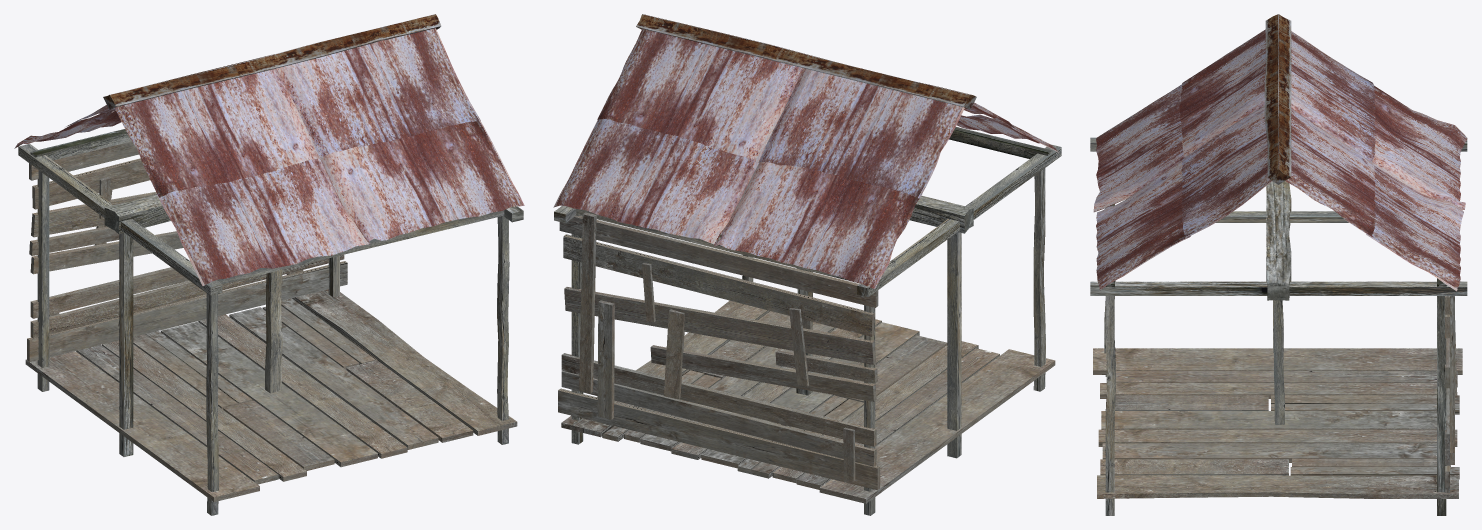
File: barn.glb
3 views of the same model, side by side, from view 1: azimuth 30°, elevation 25°; view 2: azimuth 150°, elevation 25°; view 3: azimuth 270°, elevation 25° (orthographic). The views are drawn at different scales.
Parts seen in each view (by area): view 1: nurbsToPoly5, pCube13, pCube5, pCube8, pCube19, pCube7, pCube2, pCube9, pCube11, pCube12, pasted__pasted__pCube3, pCube6 (+20 smaller); view 2: pasted__nurbsToPoly2, pCube13, pCube19, pCube17, pCube18, pCube16, pCube2, pCube25, pCube20, pCube33, pasted__pasted__pCube3, pasted__pasted__pCube6 (+23 smaller); view 3: nurbsToPoly5, pasted__nurbsToPoly2, pCube5, pCube13, pCube8, pCube7, pCube3, pCube9, pCube2, pCube11, pCube12, pCube6 (+10 smaller).
Boxes of the visible parts, box(x1,y1,x2,y2) form: nurbsToPoly5: box(115, 28, 524, 285); pCube13: box(25, 351, 259, 501); pCube5: box(294, 289, 517, 435); pCube8: box(160, 321, 377, 467); pCube19: box(27, 261, 347, 361); pCube7: box(229, 307, 438, 449); pCube2: box(103, 14, 441, 109); pCube9: box(198, 314, 407, 458); pCube11: box(102, 340, 306, 481); pCube12: box(76, 345, 278, 484); pasted__pasted__pCube3: box(18, 143, 222, 295); pCube6: box(346, 360, 473, 442); pasted__nurbsToPoly2: box(553, 29, 964, 288); pCube13: box(819, 349, 1055, 503); pCube19: box(558, 388, 880, 490); pCube17: box(563, 234, 874, 336); pCube18: box(564, 287, 876, 364); pCube16: box(559, 215, 878, 307); pCube2: box(636, 14, 976, 109); pCube25: box(561, 371, 876, 466); pCube20: box(561, 353, 876, 446); pCube33: box(650, 345, 876, 401); pasted__pasted__pCube3: box(857, 144, 1061, 297); pasted__pasted__pCube6: box(947, 232, 961, 458); nurbsToPoly5: box(1093, 29, 1272, 289); pasted__nurbsToPoly2: box(1285, 31, 1467, 291); pCube5: box(1097, 475, 1458, 498); pCube13: box(1093, 348, 1462, 374); pCube8: box(1101, 411, 1436, 429); pCube7: box(1102, 443, 1436, 462); pCube3: box(1090, 281, 1467, 295); pCube9: box(1098, 429, 1457, 446); pCube2: box(1264, 14, 1291, 184); pCube11: box(1100, 383, 1436, 398); pCube12: box(1116, 371, 1457, 387); pCube6: box(1100, 459, 1288, 475).
Size of the model in its own units: 0.2852 by 0.3026 by 0.2894.
Materials: 5 (5 with a texture image).
